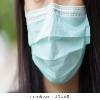Wearing Mask: (11, 0, 99, 100)
